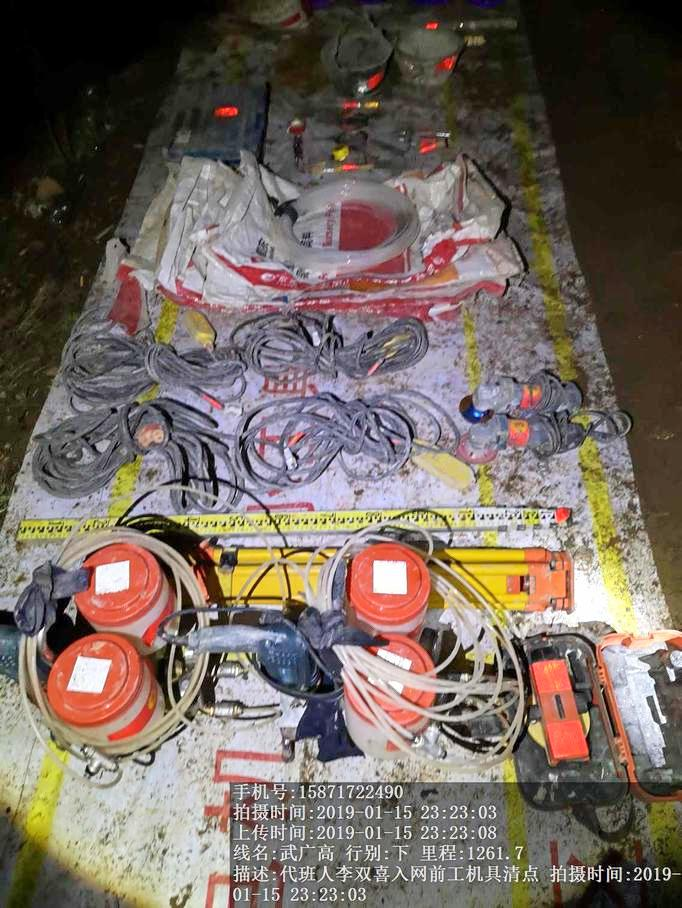DMJ: (455, 410, 610, 472), (466, 357, 596, 413)
DX: (15, 413, 247, 514), (235, 389, 441, 483), (243, 303, 426, 380), (64, 323, 251, 395)
SG: (262, 191, 429, 270)
